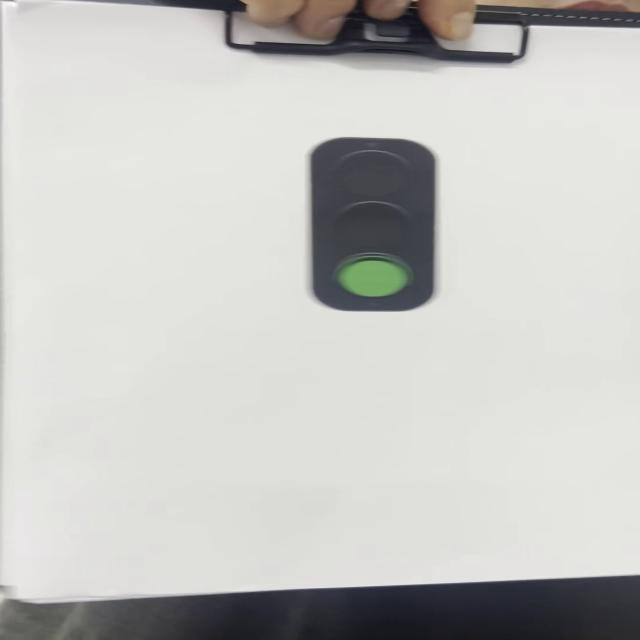green: (303, 135, 437, 313)
